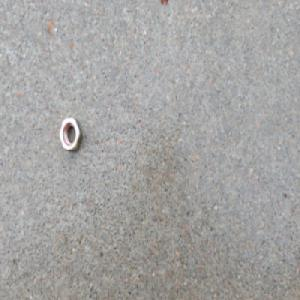Nut: (58, 114, 82, 153)
